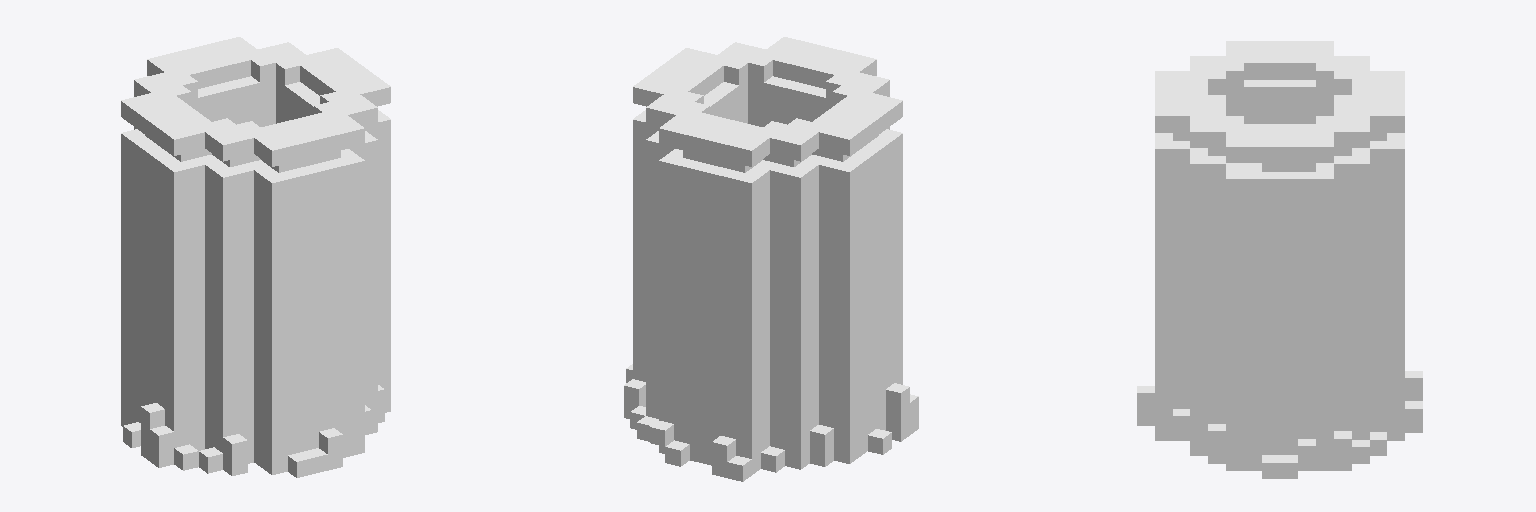
Rendered from cestino.obj.
The picture shows the model from 3 angles: view 1: azimuth 30°, elevation 25°; view 2: azimuth 150°, elevation 25°; view 3: azimuth 270°, elevation 25°; orthographic projection.
Parts seen in each view (by area): view 1: object 1; view 2: object 1; view 3: object 1.
Boxes of the visible parts, box(x1,y1,x2,y2) form: object 1: box(121, 37, 390, 477); object 1: box(624, 37, 918, 481); object 1: box(1137, 41, 1422, 478).
Bounding box in the file's own units: 1.6 × 2 × 1.6.